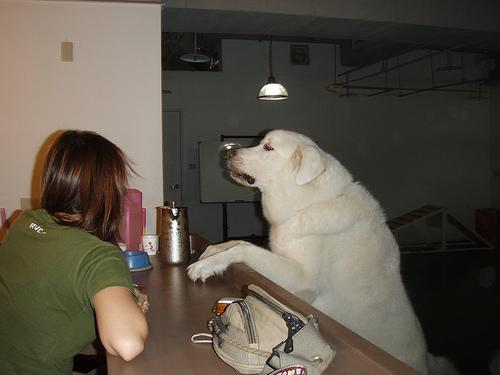Great_Pyrenees: (180, 126, 462, 374)
